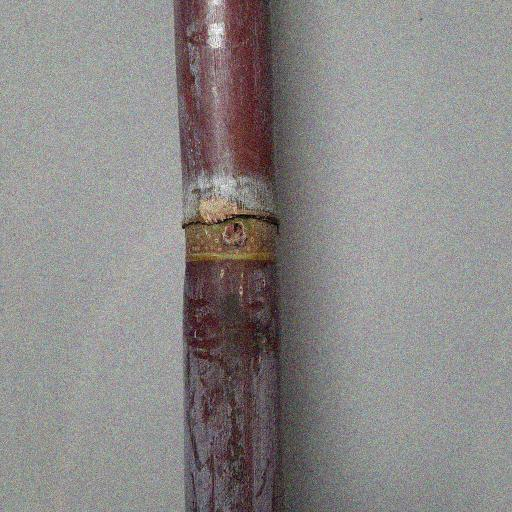Damage_Bud: (222, 221, 246, 249)
